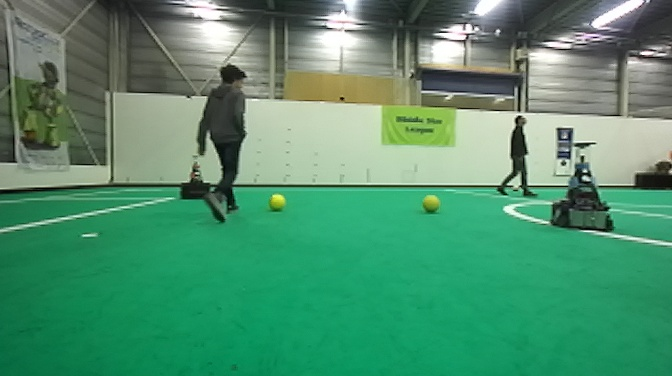ball: (421, 194, 442, 214), (267, 193, 287, 214), (509, 181, 521, 194)
human: (194, 62, 250, 225), (496, 112, 540, 199)
robot: (549, 139, 616, 232), (177, 153, 215, 201)
